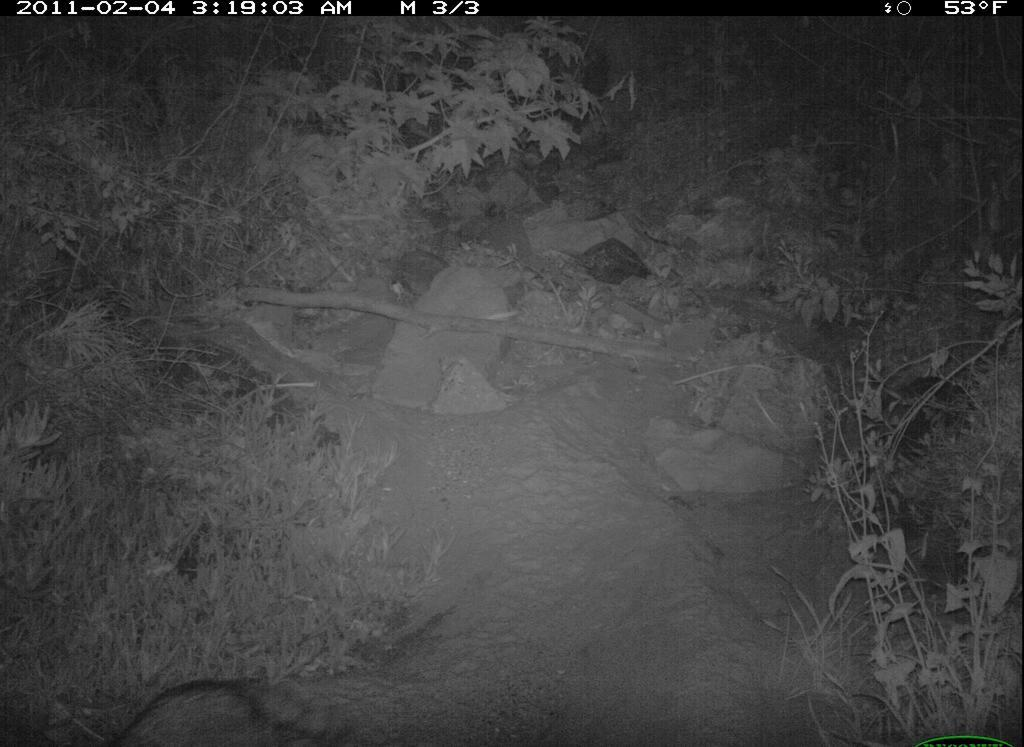raccoon: (105, 679, 294, 747)
